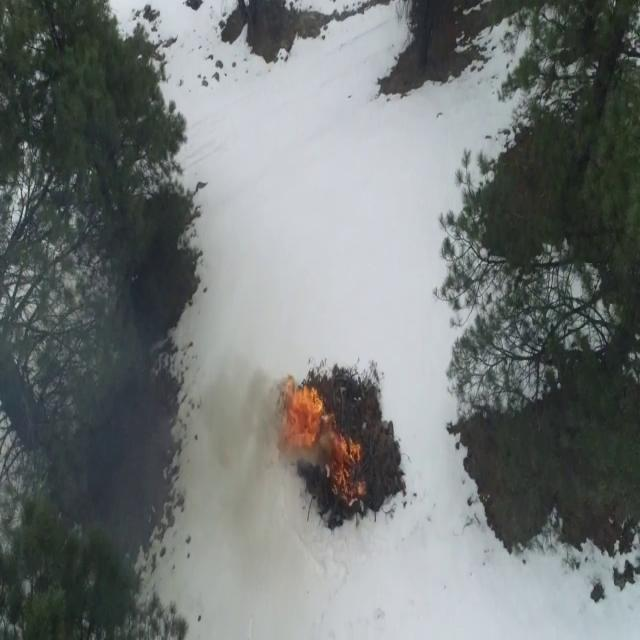fire: (280, 377, 321, 454), (332, 436, 366, 505)
